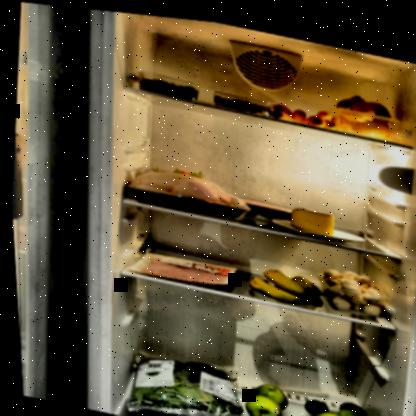apple: (238, 369, 292, 415), (301, 402, 346, 415)
banana: (244, 257, 327, 306)
blueberries: (135, 70, 197, 98)
carrot: (266, 93, 341, 125)
cheese: (284, 198, 335, 232)
chicken: (123, 159, 253, 218)
lime: (329, 391, 376, 415), (296, 388, 325, 412)
mushrooms: (313, 257, 386, 311)
onion: (331, 83, 399, 135)
shrimp: (209, 86, 269, 110)
spinach: (117, 344, 248, 415)
